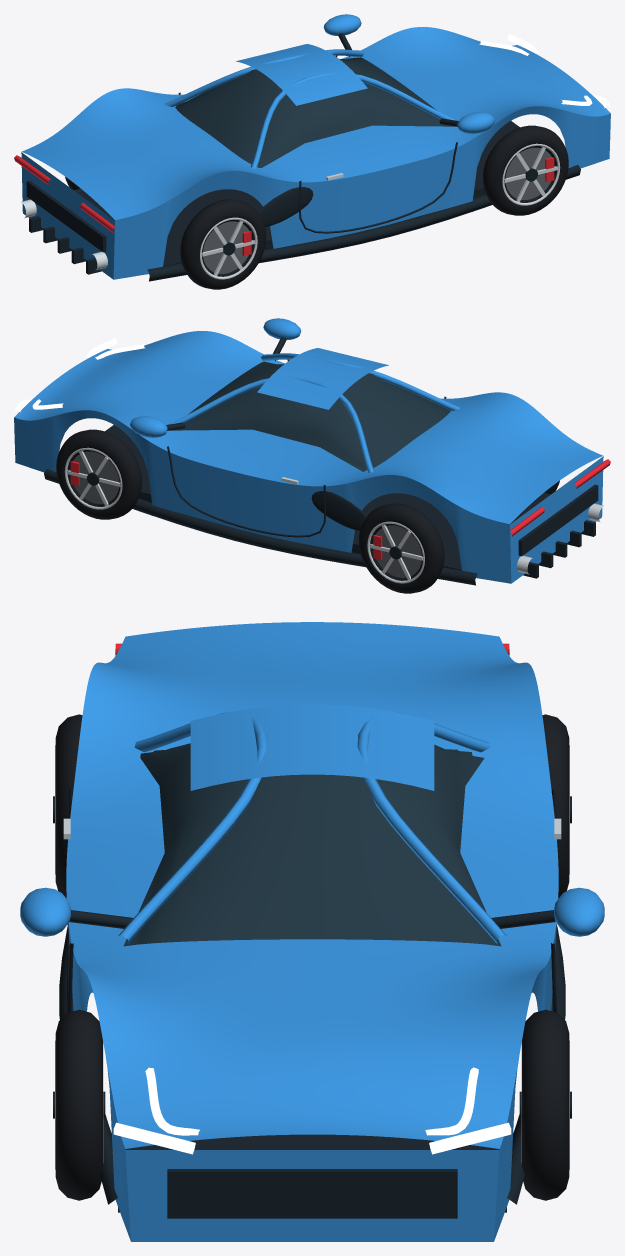
File: car11.glb
3 views of the same model, one above another, from view 1: azimuth 30°, elevation 25°; view 2: azimuth 150°, elevation 25°; view 3: azimuth 270°, elevation 25° (orthographic). The views are drawn at different scales.
Parts seen in each view (by area): view 1: CAR11, rim (×2); view 2: CAR11, rim (×2); view 3: CAR11, front-grille.
Part boxes in pixels (x1,y1,x2,y2): CAR11: (14,14,610,289); rim (×2): (200,143,560,279); CAR11: (14,318,610,593); rim (×2): (64,447,424,583); CAR11: (20,622,604,1241); front-grille: (167,1169,457,1218).
Size of the model in its own units: 4.56 by 1.24 by 2.25.
